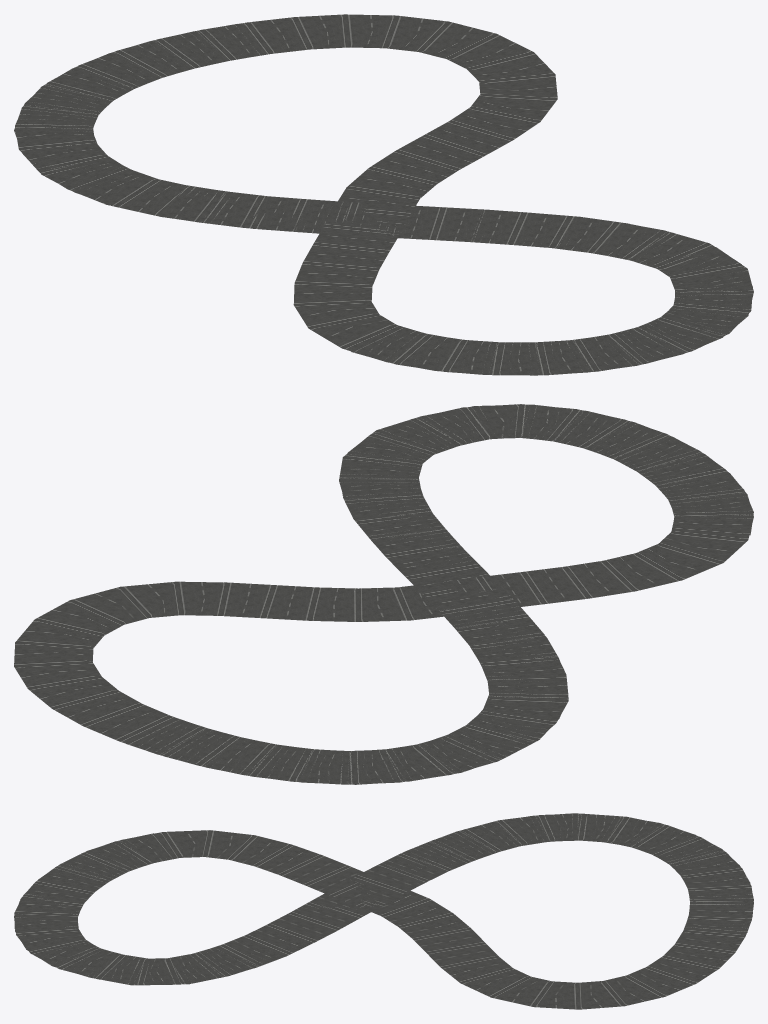
The model's file is circuit_test.glb.
3 views of the same model, one above another, from view 1: azimuth 30°, elevation 25°; view 2: azimuth 150°, elevation 25°; view 3: azimuth 270°, elevation 25° (orthographic). The views are drawn at different scales.
Visible parts, largest first — view 1: Plane; view 2: Plane; view 3: Plane.
Boxes of the visible parts, x1,y1,x2,y2 form: Plane: (14, 14, 753, 375); Plane: (14, 404, 753, 784); Plane: (14, 813, 753, 1009).
Size of what is drawn, in the model's own units: 41.38 by 1.26e-06 by 65.86.
1 material, 1 textured.
